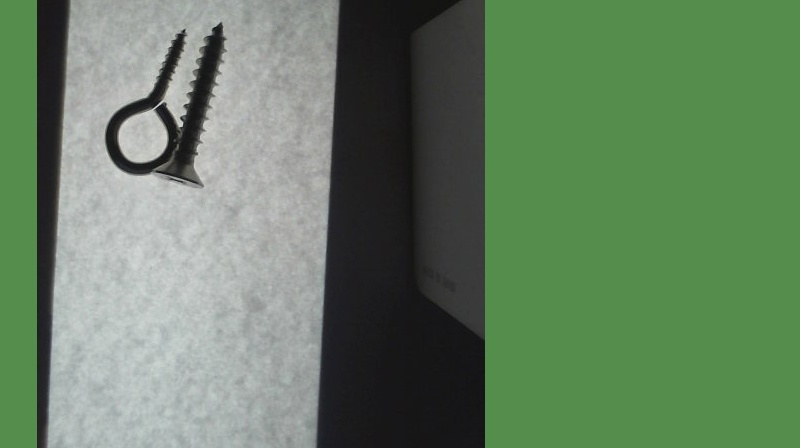O001: (103, 26, 189, 181)
S001: (152, 19, 225, 186)
